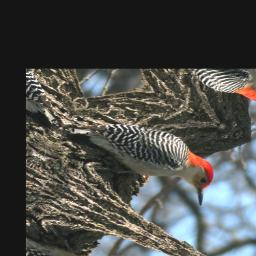Woodpecker: (53, 92, 235, 216)
